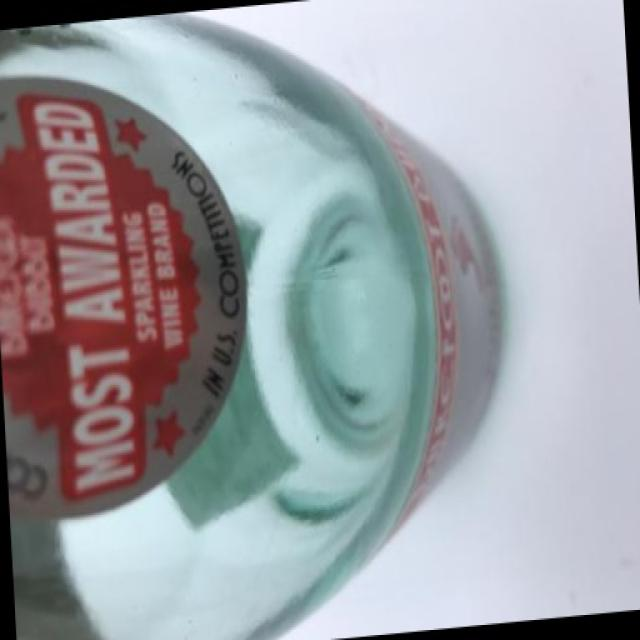vidrio: (2, 18, 548, 636)
